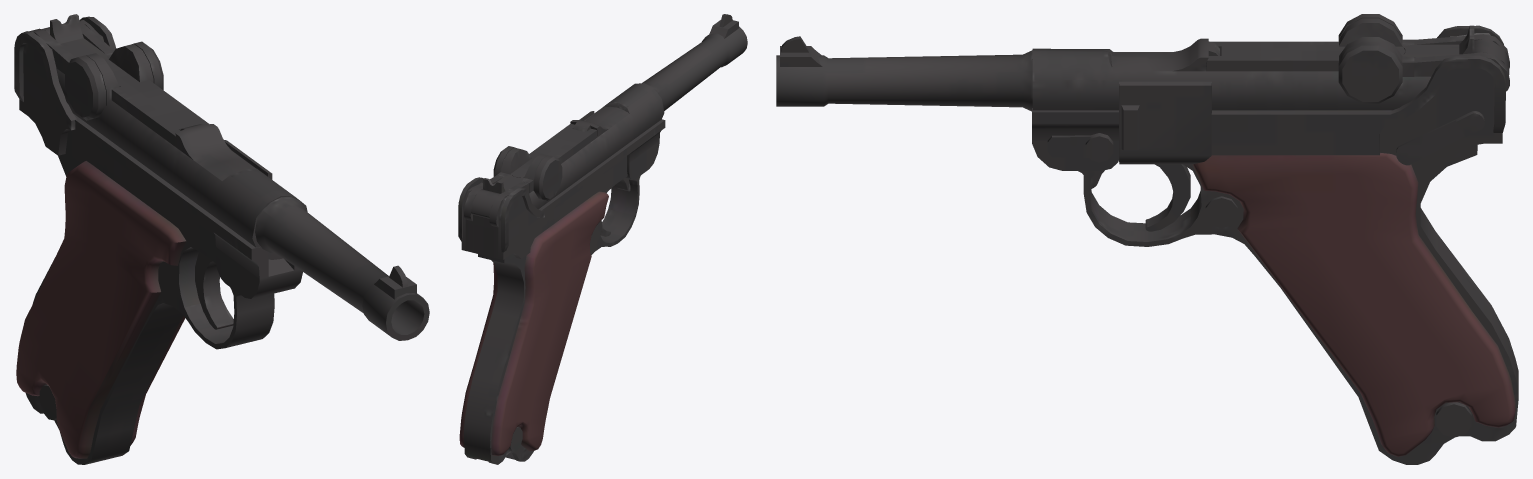
Rendered from heavy_pistol.glb.
The picture shows the model from 3 angles, left to right: view 1: azimuth 30°, elevation 25°; view 2: azimuth 150°, elevation 25°; view 3: azimuth 270°, elevation 25°; orthographic projection. The views are drawn at different scales.
Parts seen in each view (by area): view 1: heavy_pistol; view 2: heavy_pistol; view 3: heavy_pistol.
Boxes of the visible parts, x1,y1,x2,y2 form: heavy_pistol: [14, 14, 429, 464]; heavy_pistol: [458, 14, 747, 464]; heavy_pistol: [776, 14, 1518, 464].
Size of the model in its own units: 0.0357 by 0.1899 by 0.3.
1 material, 1 textured.
